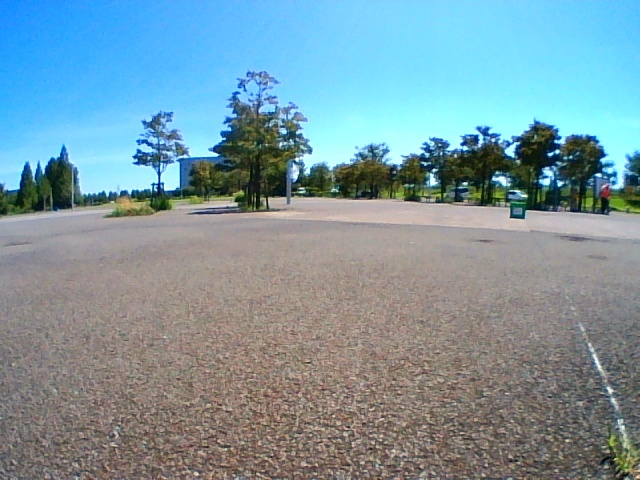green_box: (511, 202, 526, 218)
